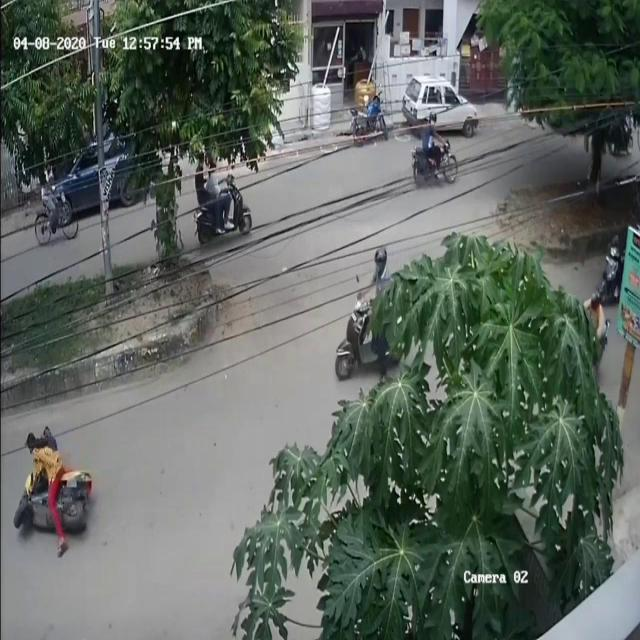accident: (9, 409, 99, 562)
